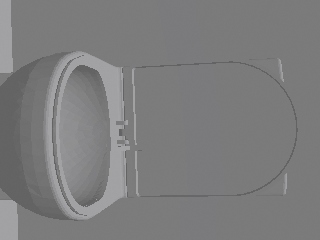lid_1: (122, 61, 301, 197)
